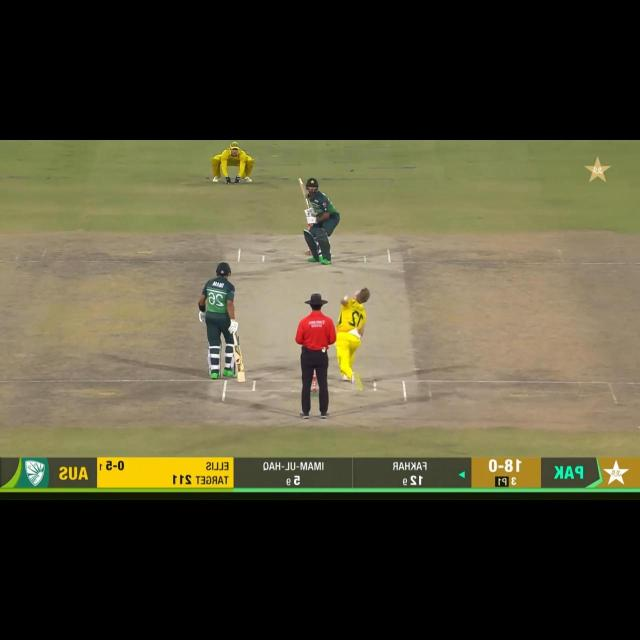bat: (233, 346, 249, 386), (294, 174, 312, 208)
toe: (235, 378, 247, 384), (296, 176, 304, 184)
